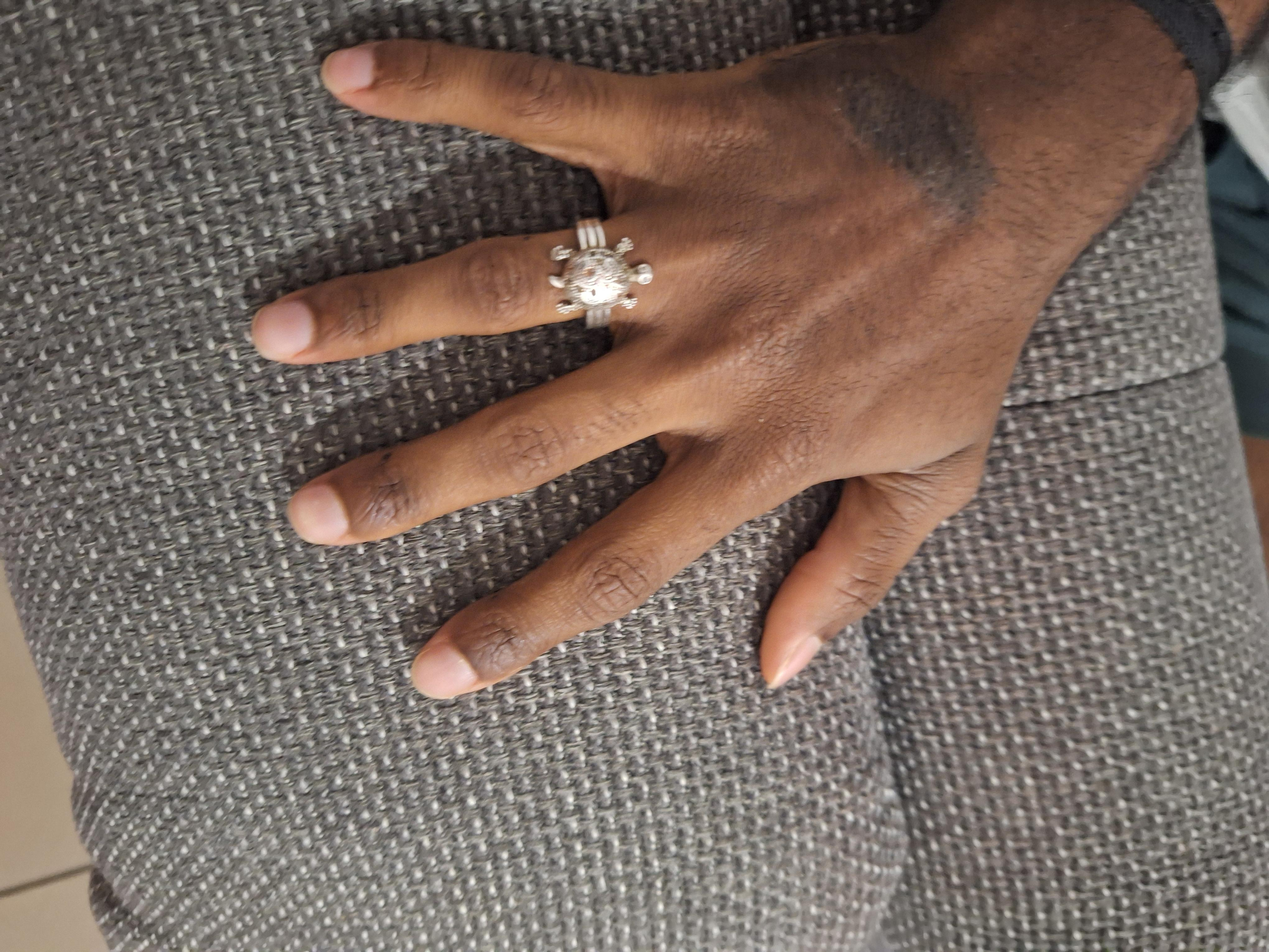Fingernail: (412, 642, 478, 699), (253, 301, 313, 361), (288, 488, 348, 544), (768, 637, 821, 689), (320, 48, 375, 93)
